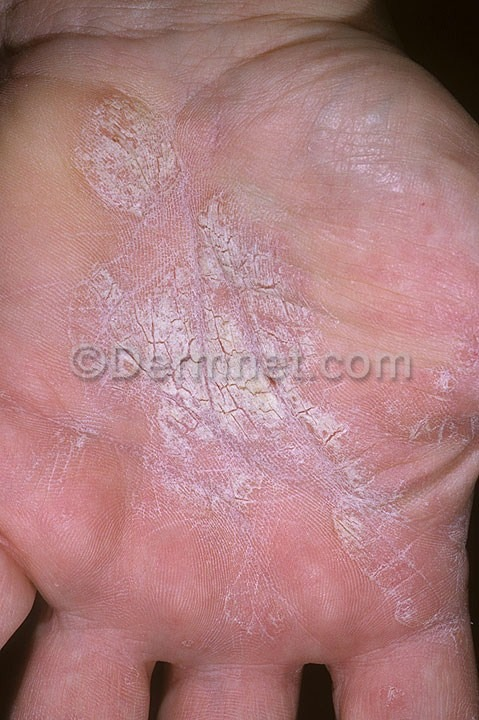Psoriasis: (65, 69, 455, 591)
